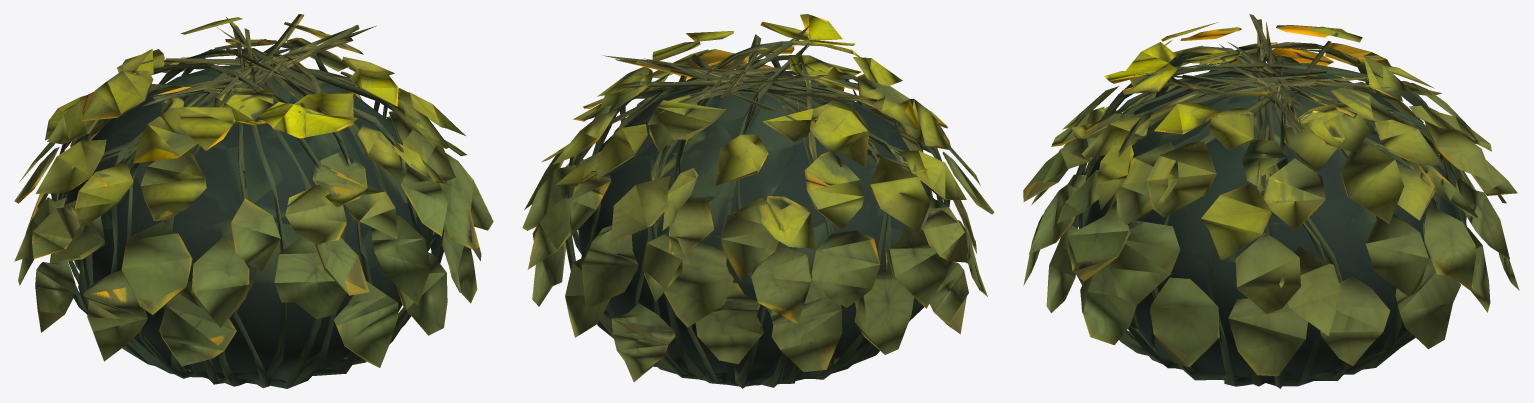
The model's file is bush.glb.
3 renders of one model, left to right at view 1: azimuth 30°, elevation 25°; view 2: azimuth 150°, elevation 25°; view 3: azimuth 270°, elevation 25°, orthographic. The views are drawn at different scales.
Visible parts, largest first — view 1: BUSH; view 2: BUSH; view 3: BUSH.
Part boxes in pixels (x1=…): BUSH: x1=14, y1=14, x2=493, y2=388; BUSH: x1=522, y1=14, x2=994, y2=388; BUSH: x1=1023, y1=14, x2=1519, y2=388.
Bounding box in the file's own units: 1.97 × 1.29 × 1.94.
Materials: 1 (1 with a texture image).
